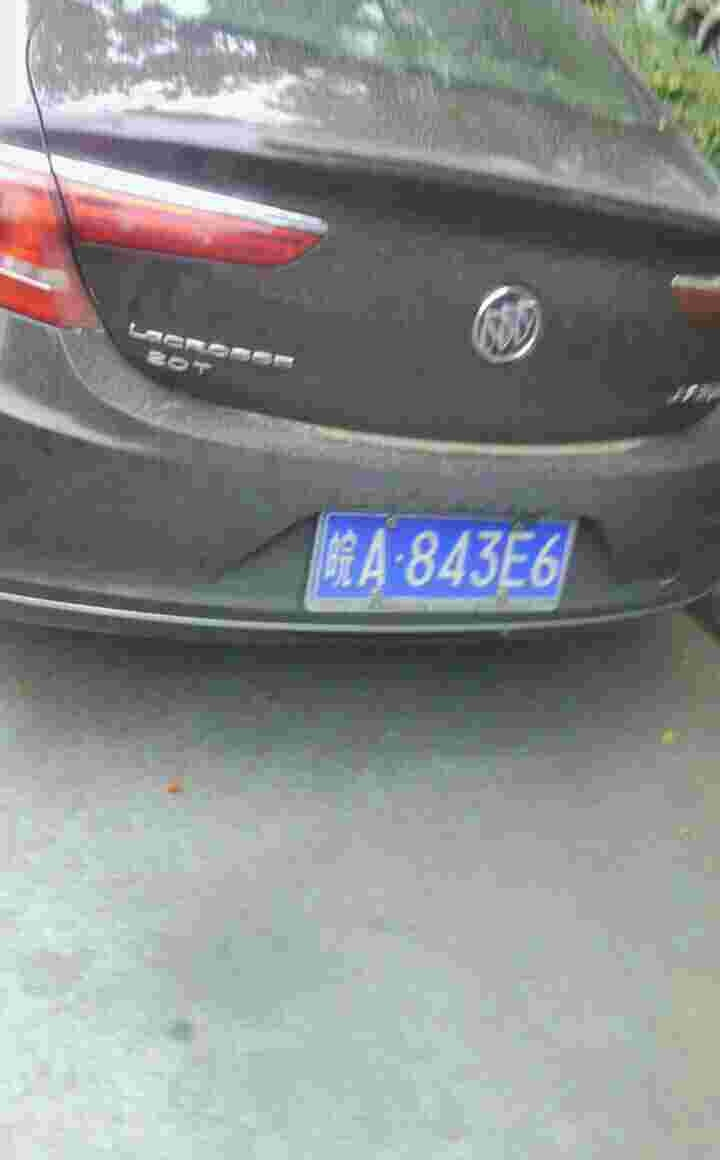license_plate: (314, 513, 569, 605)
